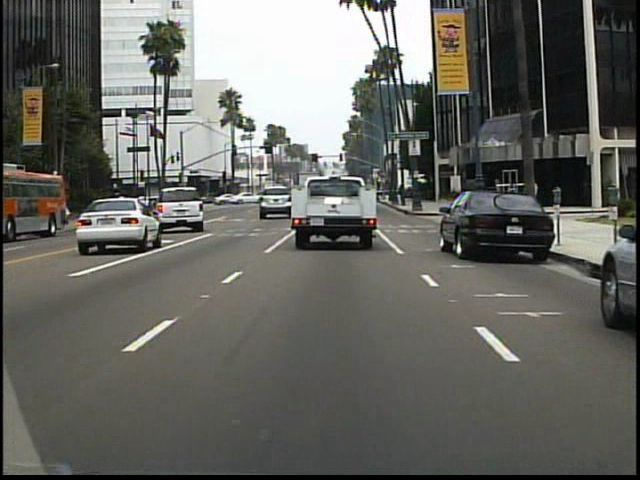person: (534, 176, 538, 199)
